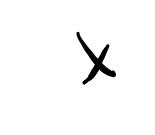mult: (72, 30, 118, 82)
